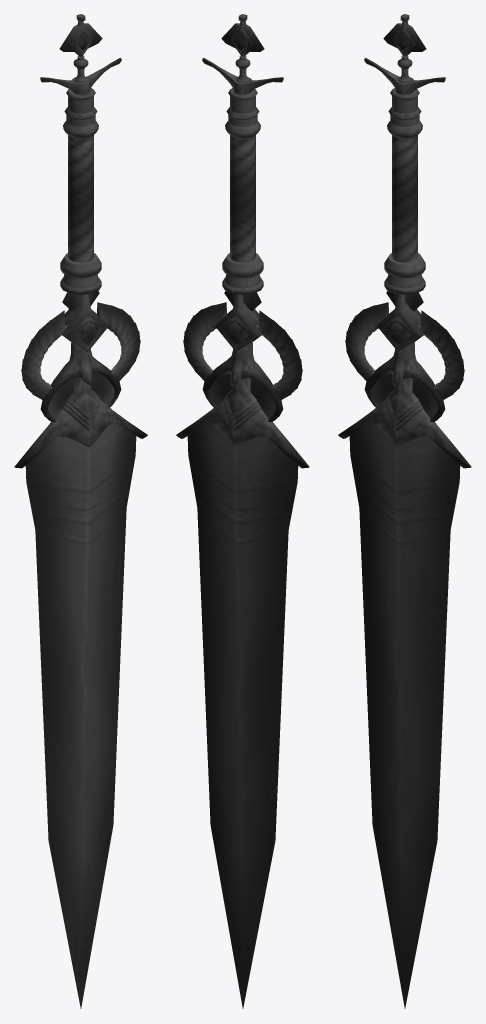
File: weapon-wp_a_0224.glb
The picture shows the model from 3 angles, left to right: view 1: azimuth 30°, elevation 25°; view 2: azimuth 150°, elevation 25°; view 3: azimuth 330°, elevation 25°; orthographic projection.
Parts seen in each view (by area): view 1: wp_a_0224_mesh; view 2: wp_a_0224_mesh; view 3: wp_a_0224_mesh.
Boxes of the visible parts, bbox=[...] form: wp_a_0224_mesh: bbox=[14, 14, 147, 1008]; wp_a_0224_mesh: bbox=[176, 14, 309, 1008]; wp_a_0224_mesh: bbox=[338, 14, 471, 1008].
Size of the model in its own units: 0.1562 by 1.11 by 0.0467.
1 material, 1 textured.
